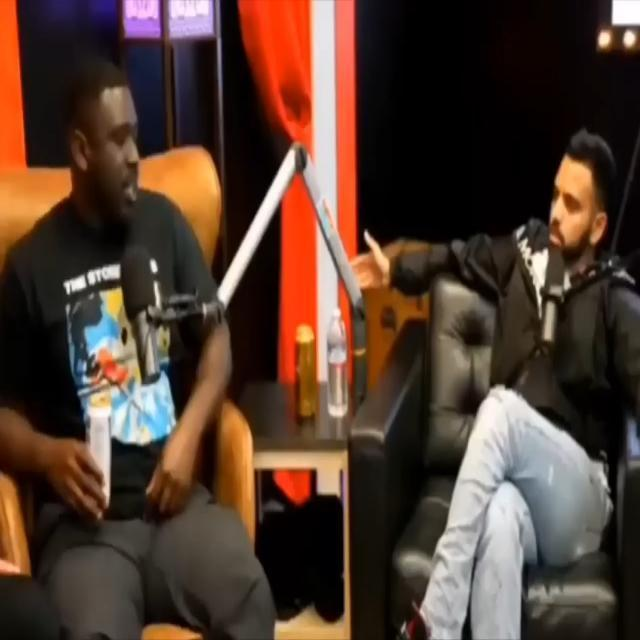person: (2, 74, 272, 640), (427, 144, 640, 640)
